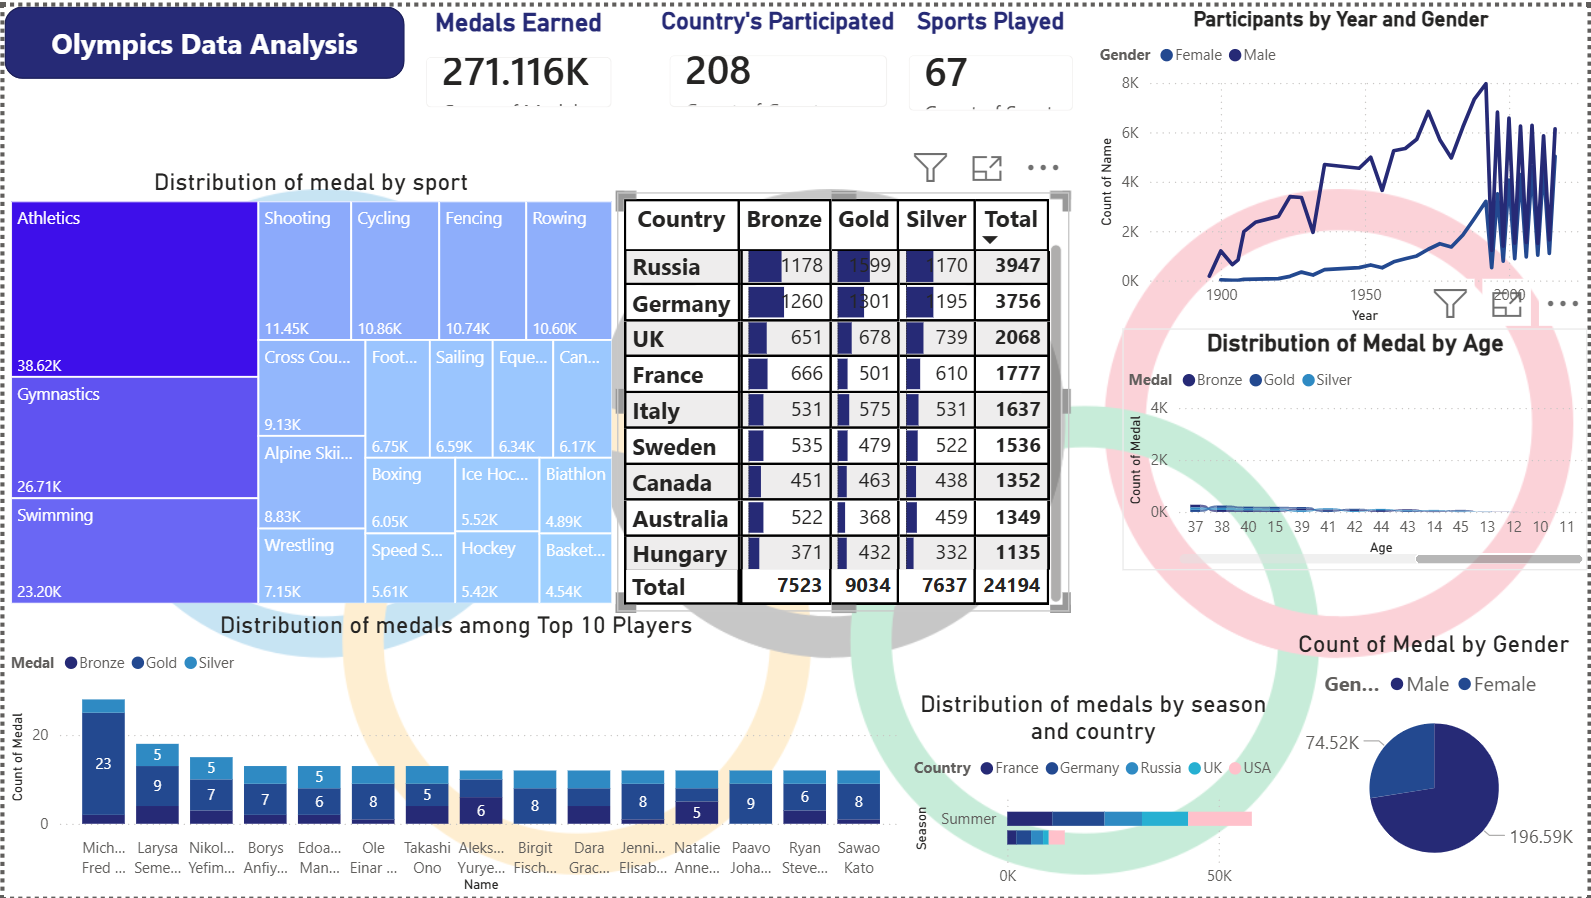

The dashboard page shown, as its layout file describes it:
{"tool":"powerbi","page":{"name":"Final Report","canvas":[1280,720],"ordinal":4},"visuals":[{"type":"shape","box":[0,0,323.3,58.3],"z":0},{"type":"cardVisual","title":"Medals Earned","fields":{"Data":["CountNonNull(olympics Final.Medal)"]},"box":[322.9,0,184.3,98.6],"z":0},{"type":"pieChart","fields":{"Category":["olympics Final.Gender"],"Y":["CountNonNull(olympics Final.Medal)"]},"box":[1030,503.3,250,201.7],"z":1000},{"type":"pivotTable","fields":{"Rows":["olympics Final.Country"],"Columns":["olympics Final.Medal"],"Values":["CountNonNull(olympics Final.Medal)"]},"box":[495.7,150,364.3,338.6],"z":2000},{"type":"columnChart","title":"Distribution of medals among Top 10 Players","fields":{"Category":["olympics Final.Name"],"Series":["olympics Final.Medal"],"Y":["CountNonNull(olympics Final.Medal)"]},"box":[0,488.3,730,231.7],"z":3000},{"type":"treemap","title":"Distribution of medal by sport","fields":{"Group":["olympics Final.Sport"],"Values":["CountNonNull(olympics Final.Medal)"]},"box":[0,130,495.7,357.1],"z":4000},{"type":"barChart","title":"Distribution of medals by season and country","fields":{"Category":["olympics Final.Season"],"Y":["CountNonNull(olympics Final.Medal)"],"Series":["olympics Final.Country"]},"box":[730,551.7,300,168.3],"z":5000},{"type":"ribbonChart","title":"Distribution of  Medal by Age","fields":{"Category":["olympics Final.Age"],"Y":["CountNonNull(olympics Final.Medal)"],"Series":["olympics Final.Medal"]},"box":[903.3,260,376.7,195],"z":6000},{"type":"lineChart","title":"Participants by Year and Gender","fields":{"Category":["olympics Final.Year"],"Y":["Count(olympics Final.Name)"],"Series":["olympics Final.Gender"]},"box":[880,0,400,260],"z":6002},{"type":"cardVisual","title":"Country''s Participated","fields":{"Data":["Count(olympics Final.Country)"]},"box":[520,0,210,98.6],"z":6003},{"type":"cardVisual","title":"Sports Played","fields":{"Data":["Count(olympics Final.Sport)"]},"box":[712.9,0,167.1,101.4],"z":6004}]}

Visuals, with their boxes in screenshot pixels (x1, y1, x2, y2), scaled from the page's 1280x720 canvas onto the 1591x898 screenshot:
shape: x1=0, y1=0, x2=402, y2=73
"Medals Earned" cardVisual: x1=401, y1=0, x2=630, y2=123
pieChart - olympics Final.Gender x CountNonNull(olympics Final.Medal): x1=1280, y1=628, x2=1590, y2=879
pivotTable - olympics Final.Country x olympics Final.Medal: x1=616, y1=187, x2=1069, y2=609
"Distribution of medals among Top 10 Players" columnChart: x1=0, y1=609, x2=907, y2=897
"Distribution of medal by sport" treemap: x1=0, y1=162, x2=616, y2=608
"Distribution of medals by season and country" barChart: x1=907, y1=688, x2=1280, y2=897
"Distribution of  Medal by Age" ribbonChart: x1=1123, y1=324, x2=1590, y2=567
"Participants by Year and Gender" lineChart: x1=1094, y1=0, x2=1590, y2=324
"Country''s Participated" cardVisual: x1=646, y1=0, x2=907, y2=123
"Sports Played" cardVisual: x1=886, y1=0, x2=1094, y2=126
